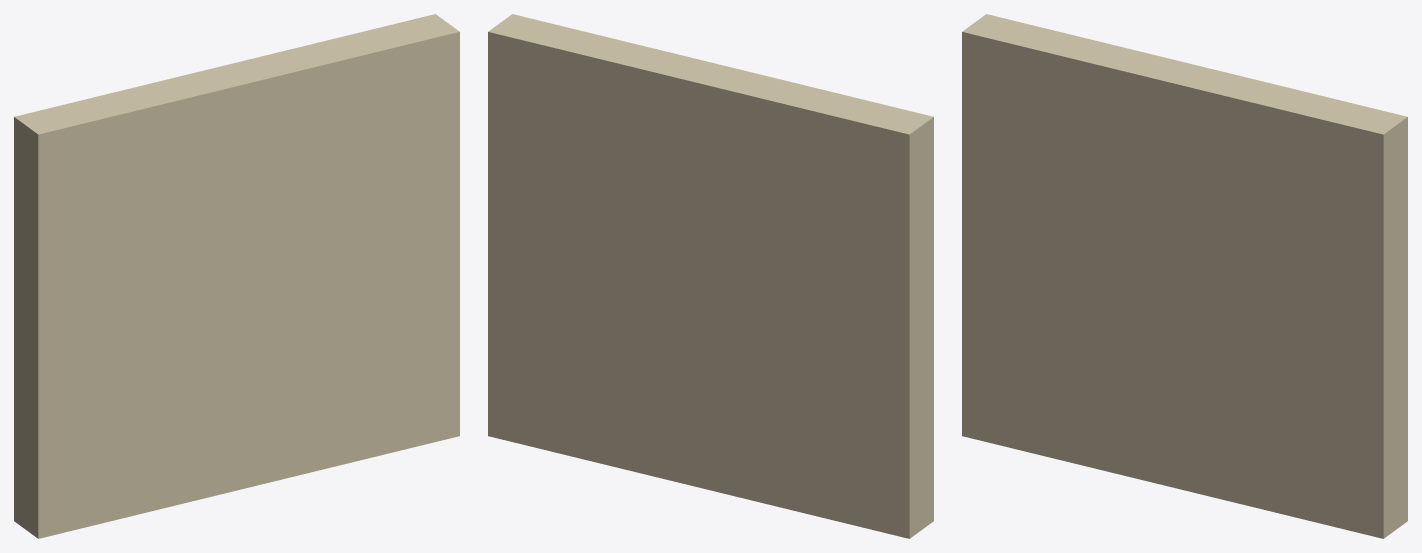
Rendered from Kit_plaster_wall.fbx.
The picture shows the model from 3 angles, left to right: view 1: azimuth 30°, elevation 25°; view 2: azimuth 150°, elevation 25°; view 3: azimuth 330°, elevation 25°; orthographic projection.
Parts seen in each view (by area): view 1: Wall; view 2: Wall; view 3: Wall.
Boxes of the visible parts, x1,y1,x2,y2 form: Wall: (14, 14, 459, 538); Wall: (488, 14, 933, 538); Wall: (962, 14, 1407, 538).
Bounding box in the file's own units: 300 × 30 × 275.
